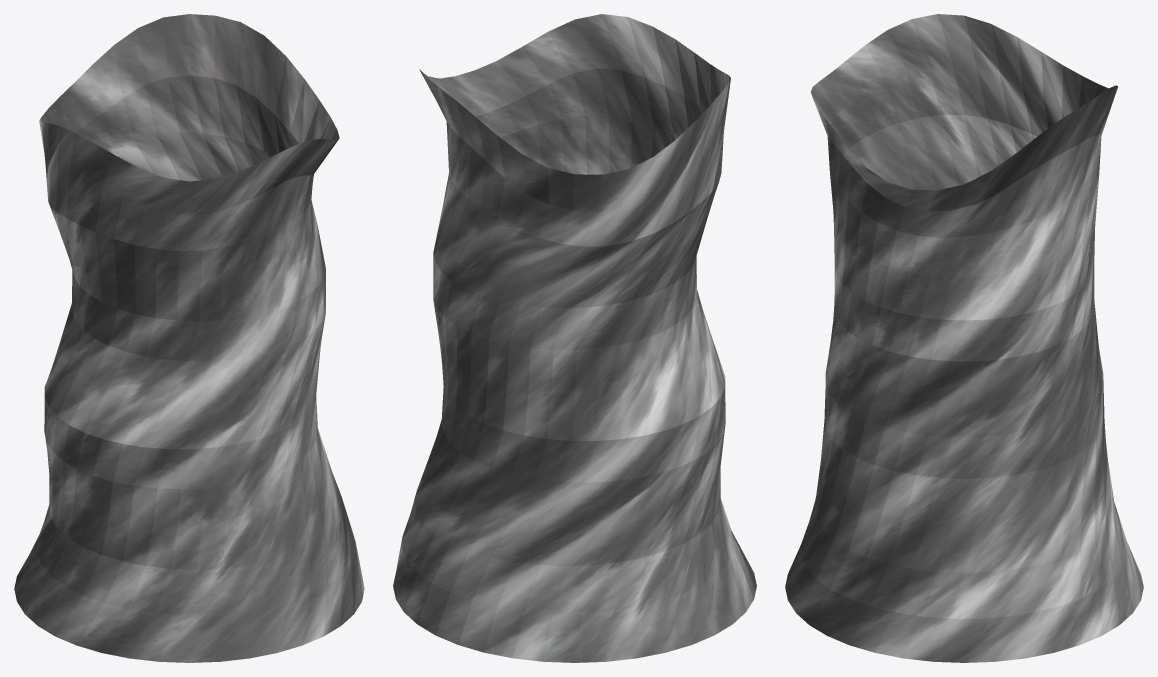
File: WhirlWindA.fbx
3 renders of one model, left to right at view 1: azimuth 30°, elevation 25°; view 2: azimuth 150°, elevation 25°; view 3: azimuth 270°, elevation 25°, orthographic. The views are drawn at different scales.
Parts seen in each view (by area): view 1: SM_WEP_Eff_D24NJ1_A_01.mo; view 2: SM_WEP_Eff_D24NJ1_A_01.mo; view 3: SM_WEP_Eff_D24NJ1_A_01.mo.
Part boxes in pixels (left/top/right/bottom): SM_WEP_Eff_D24NJ1_A_01.mo: left=14, top=14, right=364, bottom=662; SM_WEP_Eff_D24NJ1_A_01.mo: left=393, top=14, right=756, bottom=662; SM_WEP_Eff_D24NJ1_A_01.mo: left=785, top=14, right=1143, bottom=662.
Size of the model in its own units: 66.41 by 107 by 66.41.
